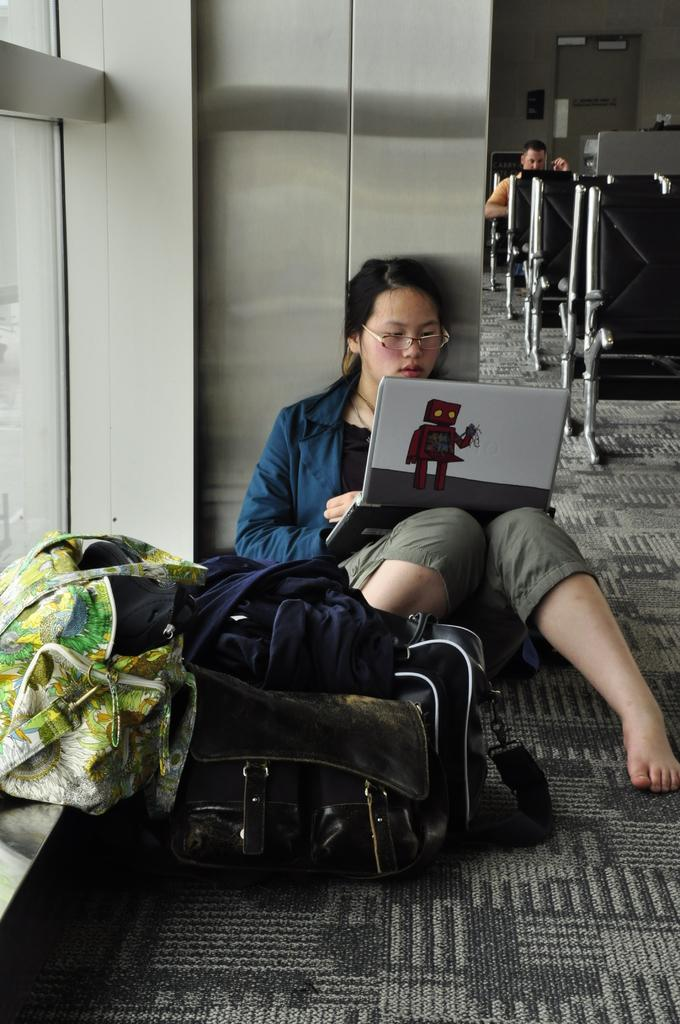Luggage-and-bags: (215, 580, 525, 897), (0, 527, 201, 809), (182, 560, 385, 693)
